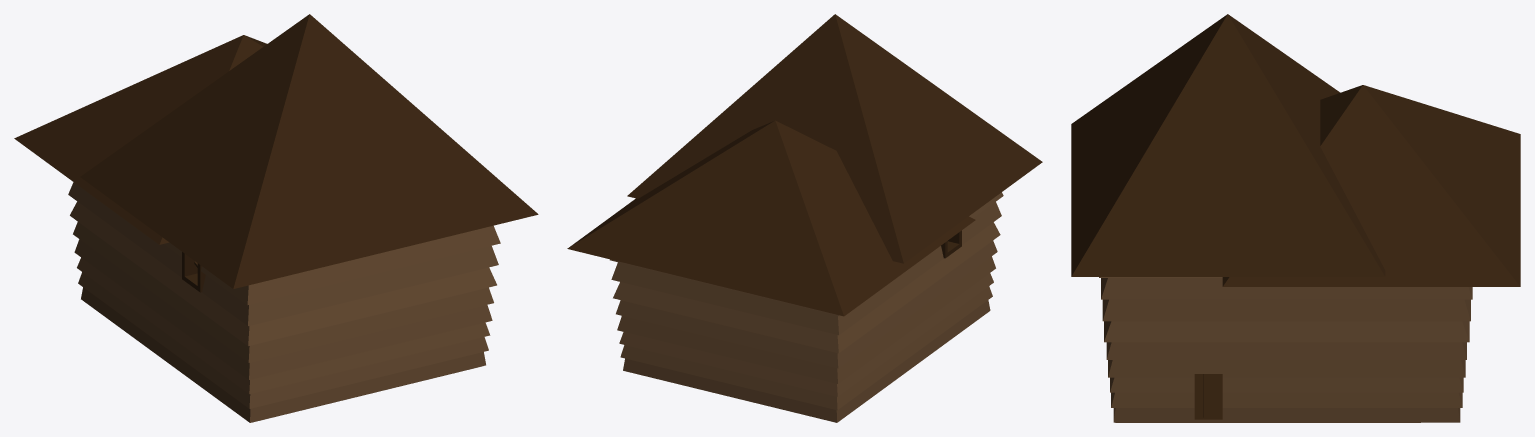
The model's file is SM_Your_House.fbx.
3 views of the same model, side by side, from view 1: azimuth 30°, elevation 25°; view 2: azimuth 150°, elevation 25°; view 3: azimuth 270°, elevation 25° (orthographic). The views are drawn at different scales.
Visible parts, largest first — view 1: Your_House; view 2: Your_House; view 3: Your_House.
Boxes of the visible parts, bbox=[...] form: Your_House: bbox=[14, 14, 538, 422]; Your_House: bbox=[567, 14, 1042, 422]; Your_House: bbox=[1071, 14, 1520, 422].
Size of the model in its own units: 1573 by 1685 by 1954.
